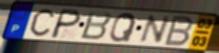B: (162, 15, 196, 48), (79, 10, 114, 42)
C: (29, 8, 56, 38)
N: (137, 14, 173, 45)
P: (48, 8, 84, 40)
Q: (108, 12, 138, 43)
